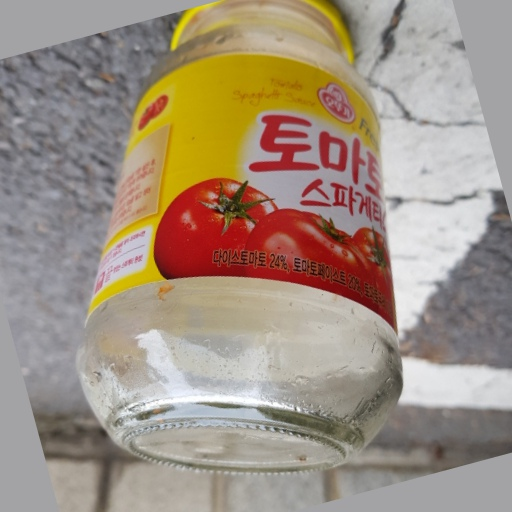Glass_5: (77, 1, 404, 474)
